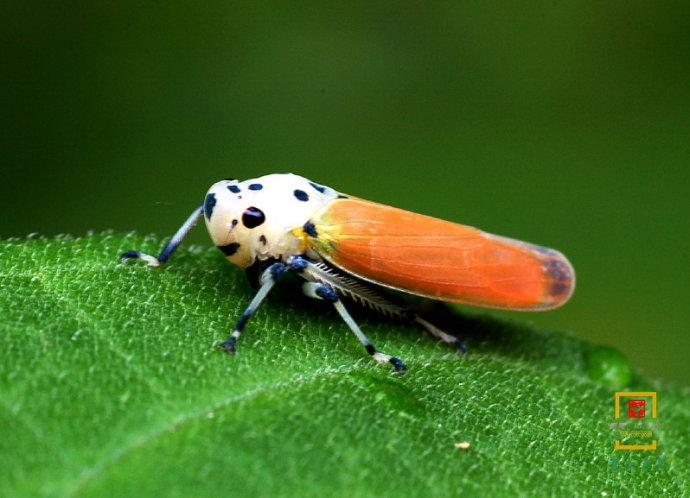Cicadellidae: (123, 174, 577, 366)
